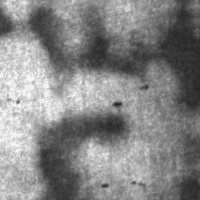patches: (36, 112, 129, 200), (152, 0, 198, 113), (75, 6, 145, 73), (25, 6, 69, 73), (176, 168, 200, 197), (0, 4, 17, 40)
